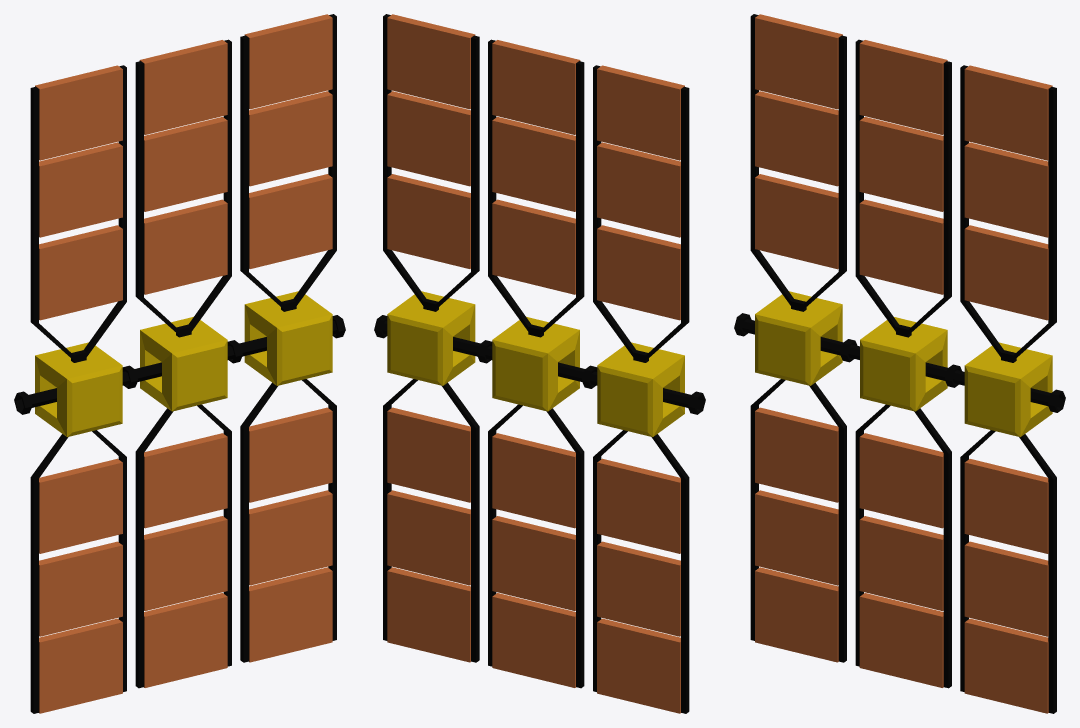
Rendered from satelliteMesh.fbx.
3 renders of one model, left to right at view 1: azimuth 30°, elevation 25°; view 2: azimuth 150°, elevation 25°; view 3: azimuth 330°, elevation 25°, orthographic.
Visible parts, largest first — view 1: pannelWings (×3); view 2: pannelWings (×3); view 3: pannelWings (×3).
Boxes of the visible parts, bbox=[...] form: pannelWings (×3): bbox=[30, 14, 336, 713]; pannelWings (×3): bbox=[383, 14, 689, 713]; pannelWings (×3): bbox=[750, 14, 1056, 713].
Bounding box in the file's own units: 13.72 × 25.54 × 2.54.
